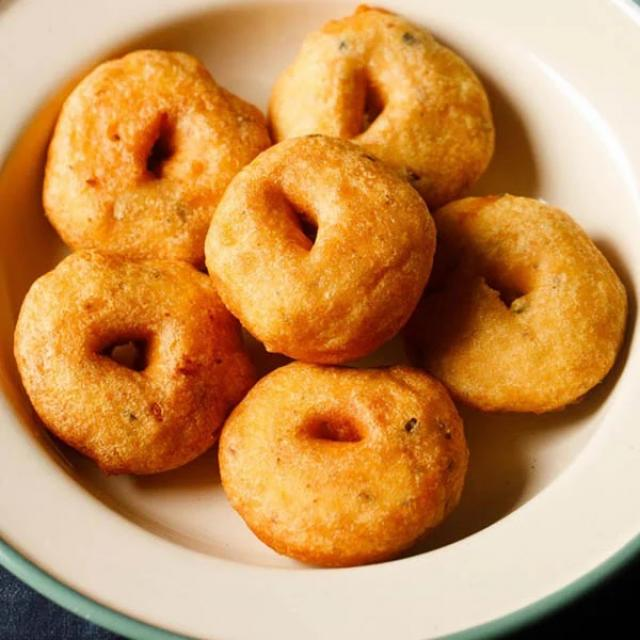Vada: (16, 50, 274, 477), (374, 194, 631, 417), (203, 135, 437, 368), (217, 364, 470, 570), (266, 5, 497, 214)
